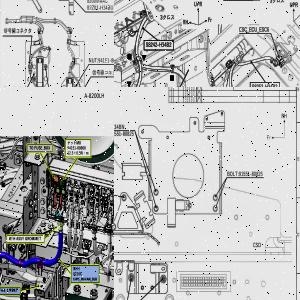PartNumber: (86, 4, 114, 11), (145, 41, 172, 48), (238, 170, 264, 177), (114, 130, 134, 136), (97, 56, 114, 63), (252, 83, 278, 87), (68, 145, 86, 150), (114, 123, 125, 129)
